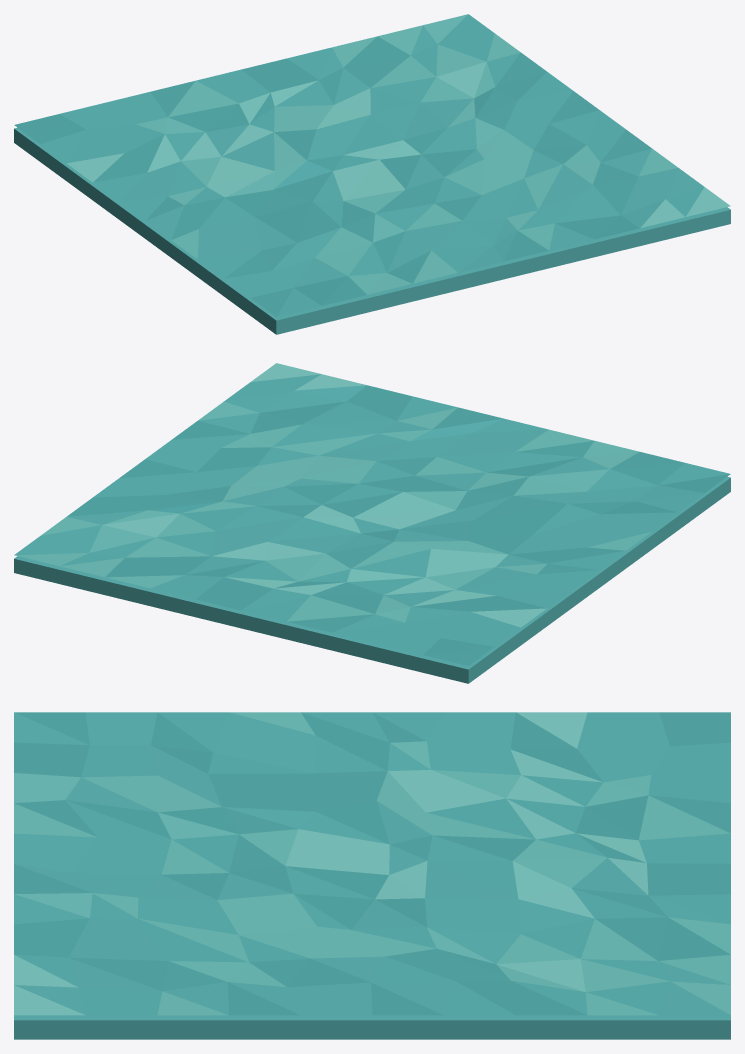
The model's file is water_tile.glb.
3 renders of one model, top to bottom at view 1: azimuth 30°, elevation 25°; view 2: azimuth 150°, elevation 25°; view 3: azimuth 270°, elevation 25°, orthographic. The views are drawn at different scales.
Parts seen in each view (by area): view 1: water; view 2: water; view 3: water.
Part boxes in pixels (x1,y1,x2,y2): water: (14,14,730,334); water: (14,363,730,683); water: (14,712,730,1039).
Bounding box in the file's own units: 4 × 0.15 × 4.
